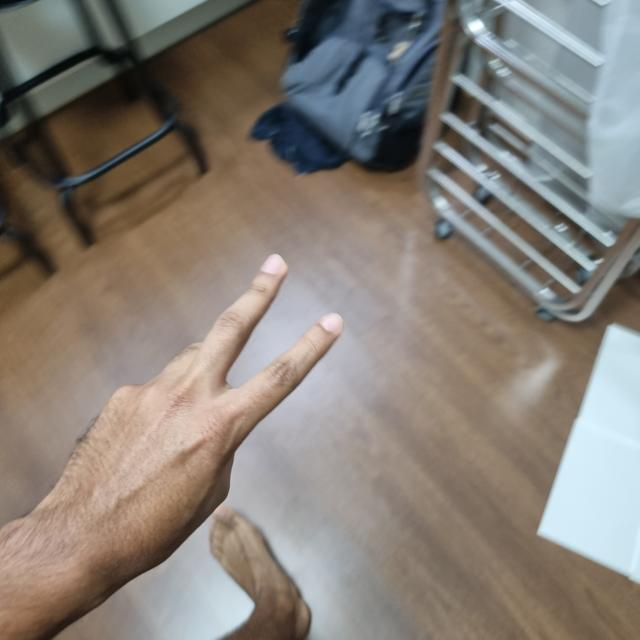Scissors: (48, 257, 338, 597)
